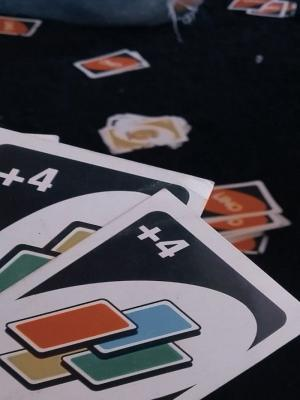wild-4: (0, 169, 124, 295), (2, 156, 63, 203)
